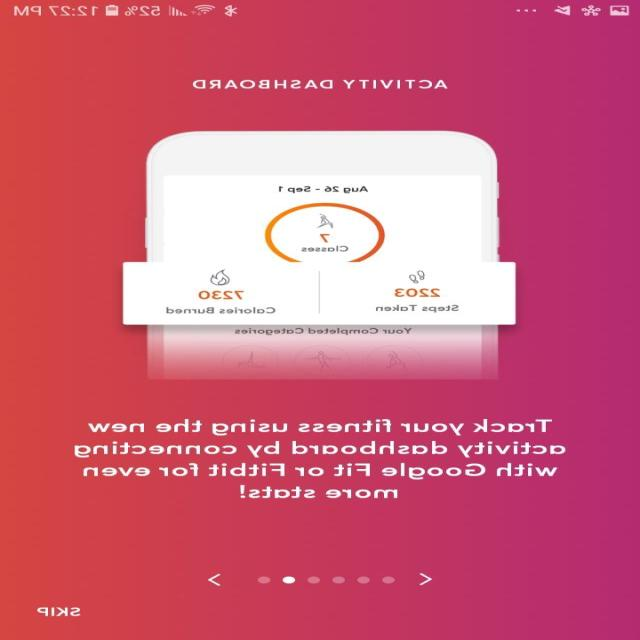Icon: (208, 573, 222, 586), (420, 572, 432, 585)
Image: (122, 130, 516, 380)
Text: (74, 418, 566, 498), (193, 80, 449, 89), (38, 606, 82, 616)
